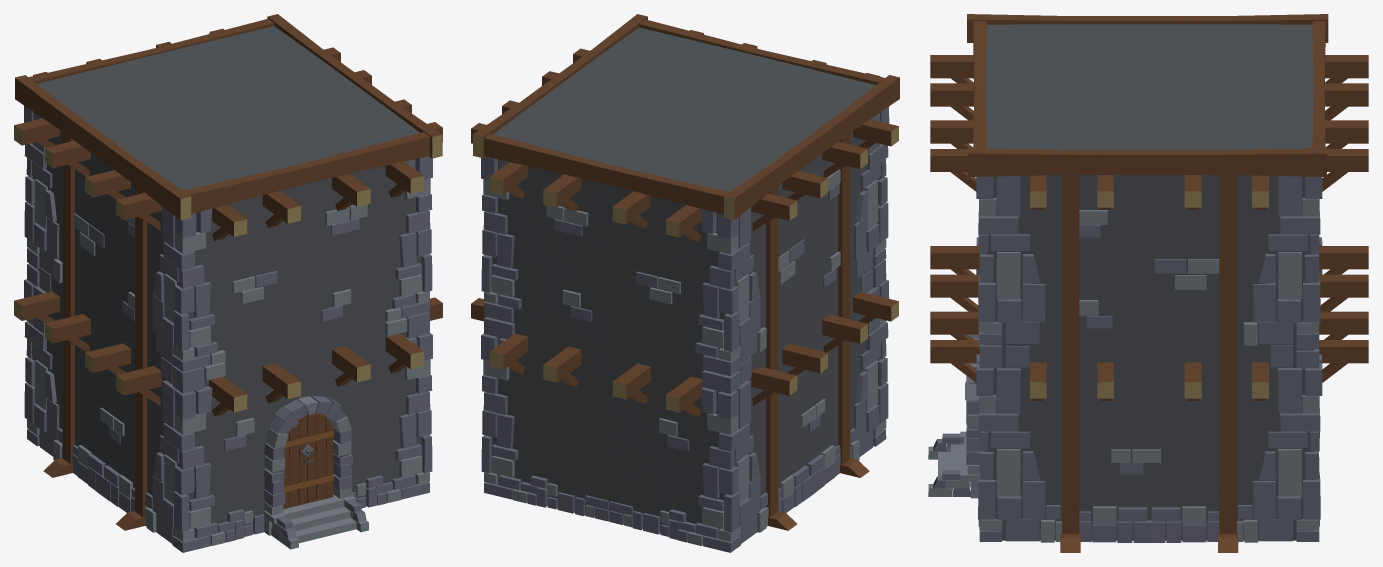
File: fantasy-barracks.glb
3 renders of one model, left to right at view 1: azimuth 30°, elevation 25°; view 2: azimuth 150°, elevation 25°; view 3: azimuth 270°, elevation 25°, orthographic. The views are drawn at different scales.
Visible parts, largest first — view 1: House_3; view 2: House_3; view 3: House_3.
Part boxes in pixels (x1,y1,x2,y2): House_3: (14, 14, 442, 552); House_3: (471, 14, 899, 552); House_3: (928, 14, 1368, 552).
Bounding box in the file's own units: 1.94 × 2.09 × 2.12.
Materials: 1 (1 with a texture image).
